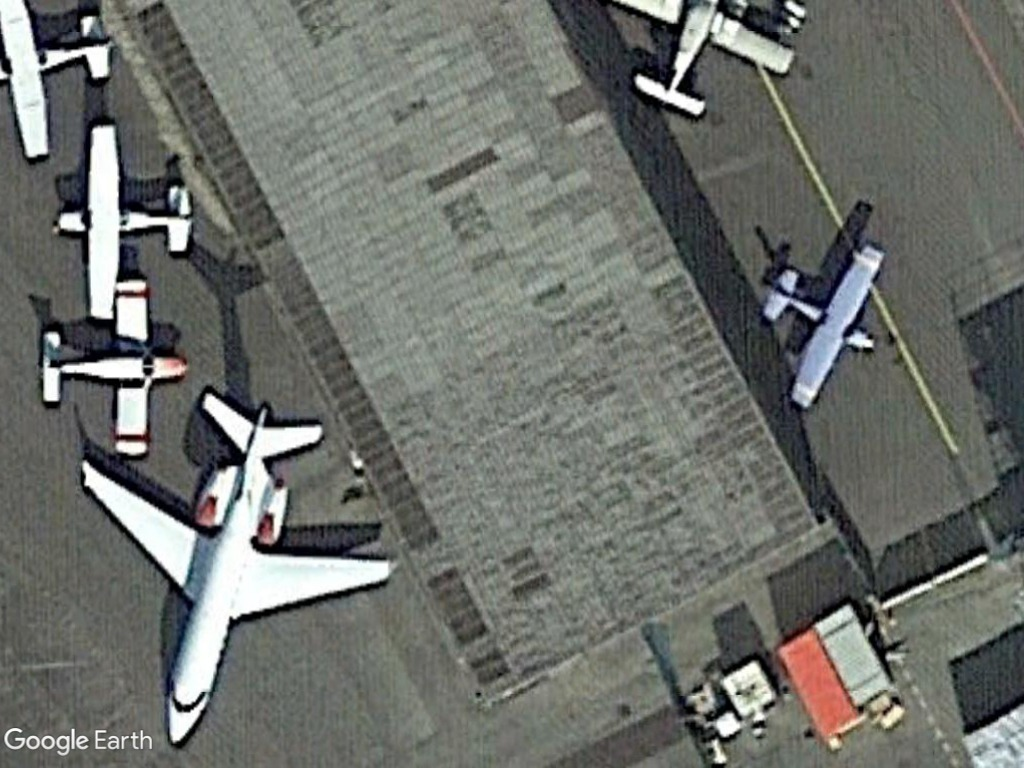chartered: (77, 385, 407, 753)
trainer: (31, 277, 195, 464), (53, 124, 200, 324), (759, 239, 895, 412)
